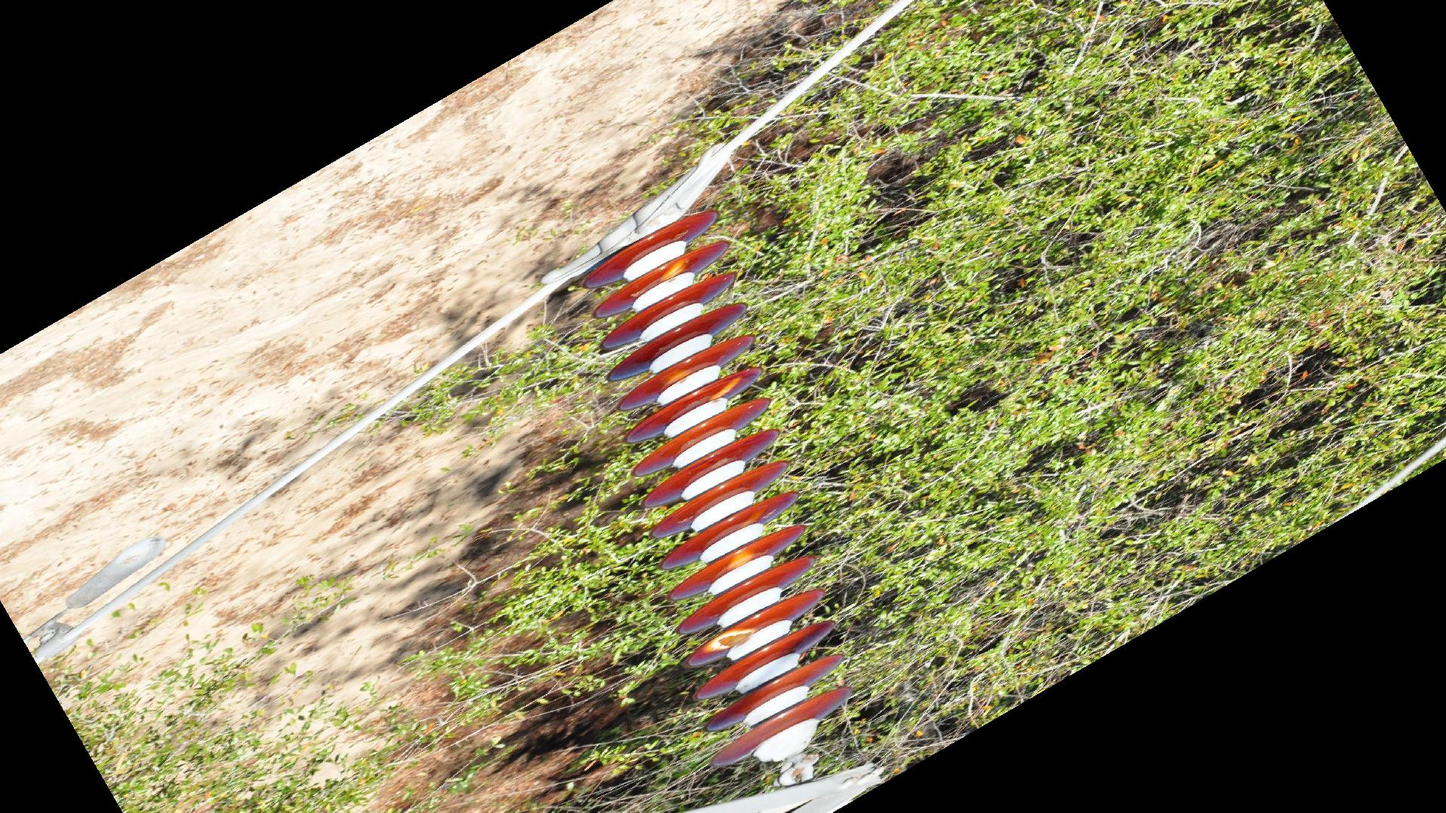insulator: (576, 206, 857, 774)
insulator_flashover: (703, 626, 756, 654), (709, 374, 743, 402), (658, 255, 690, 283), (721, 547, 755, 573)
